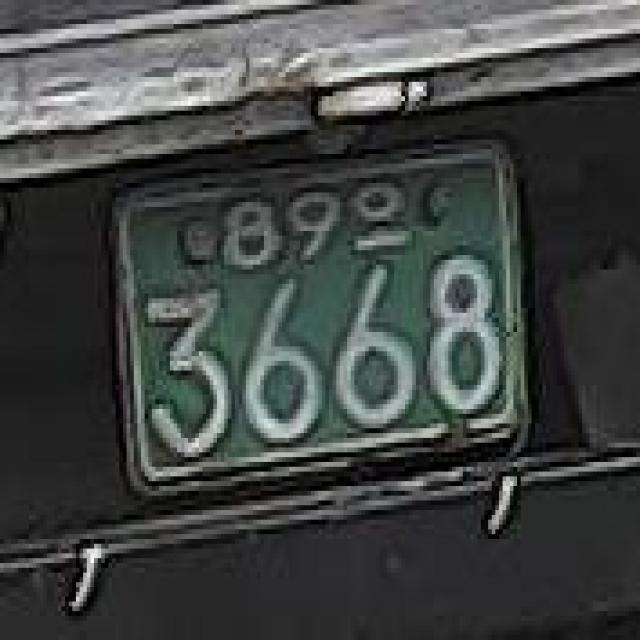illegal_plate: (95, 128, 546, 518)
